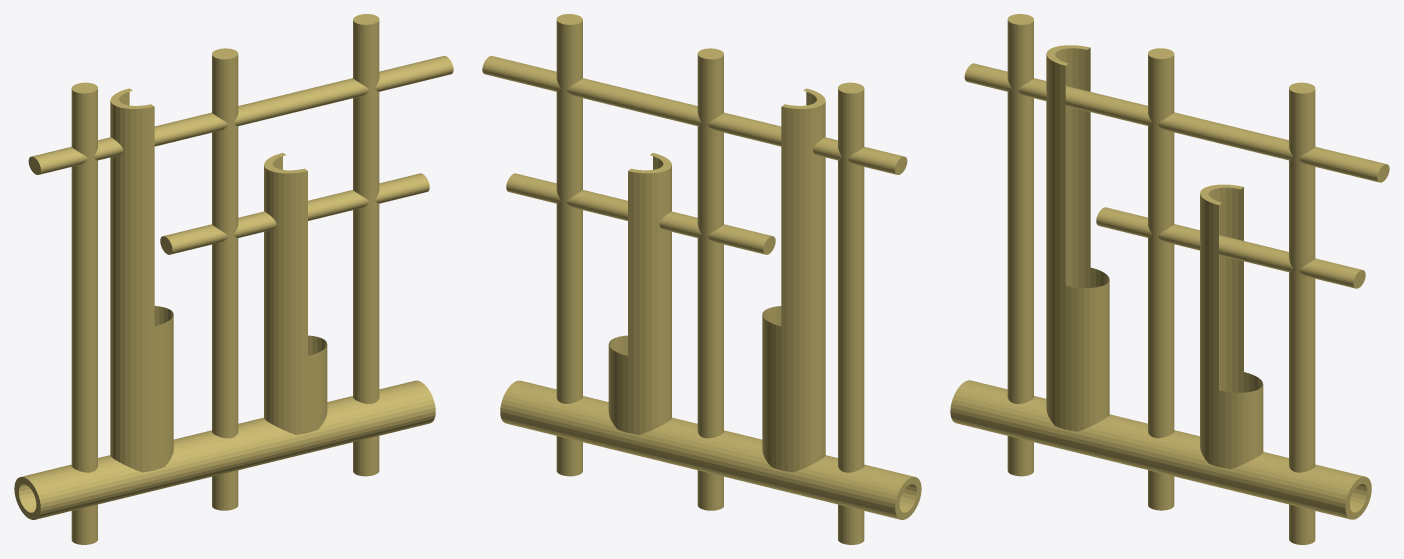
The model's file is angklung.fbx.
The picture shows the model from 3 angles, left to right: view 1: azimuth 30°, elevation 25°; view 2: azimuth 150°, elevation 25°; view 3: azimuth 330°, elevation 25°; orthographic projection.
Visible parts, largest first — view 1: angklung; view 2: angklung; view 3: angklung.
Boxes of the visible parts, x1,y1,x2,y2 form: angklung: (14,14,453,544); angklung: (482,14,921,544); angklung: (950,14,1389,544).
Bounding box in the file's own units: 139 × 143 × 15.16.
